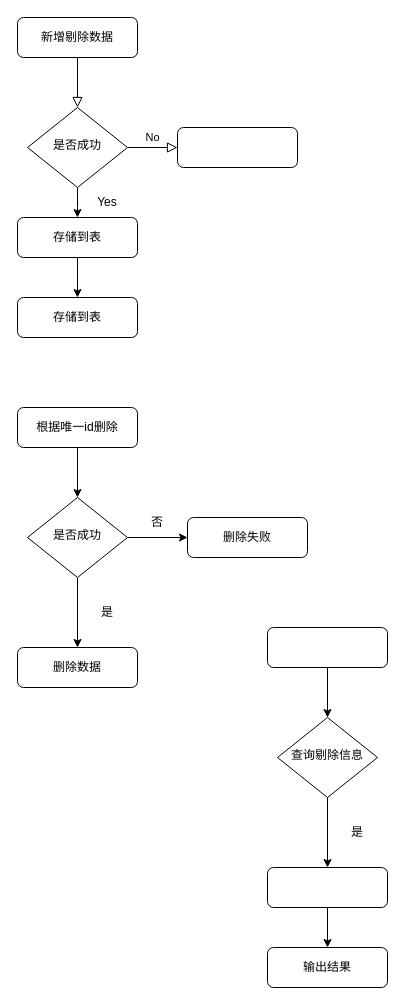
Some shapes in this 405 by 1005 pixel diagram are drawn without their labels. Here are the shapes that lost their labels. From the top down, the centre of each, then its label:
At point (237, 147): "剔除失败".
At point (327, 647): "准确性分析".
At point (327, 887): "存在的index不参与计算".
